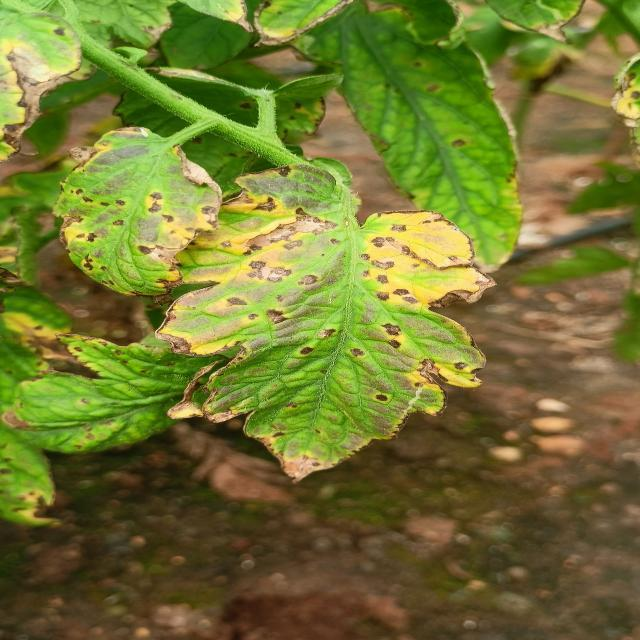Tomato mosaic virus leaf: (160, 187, 498, 483), (44, 121, 230, 313), (0, 328, 184, 466), (0, 38, 89, 166)
